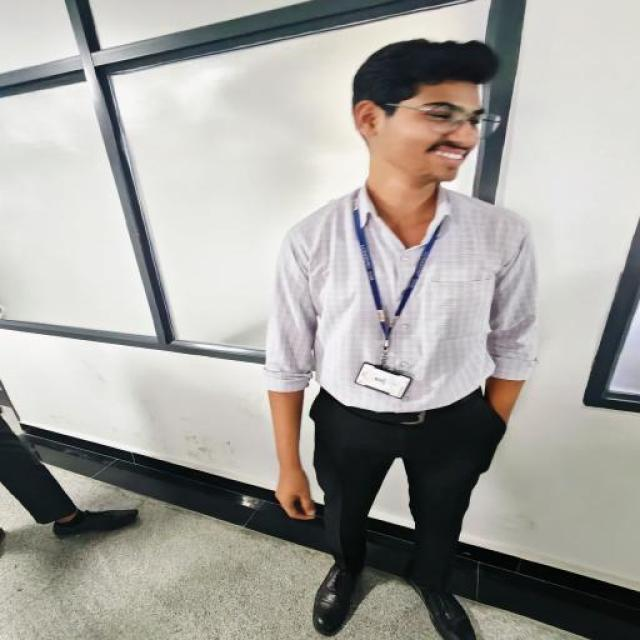Card: (355, 363, 412, 398)
Id strap: (354, 208, 439, 348)
